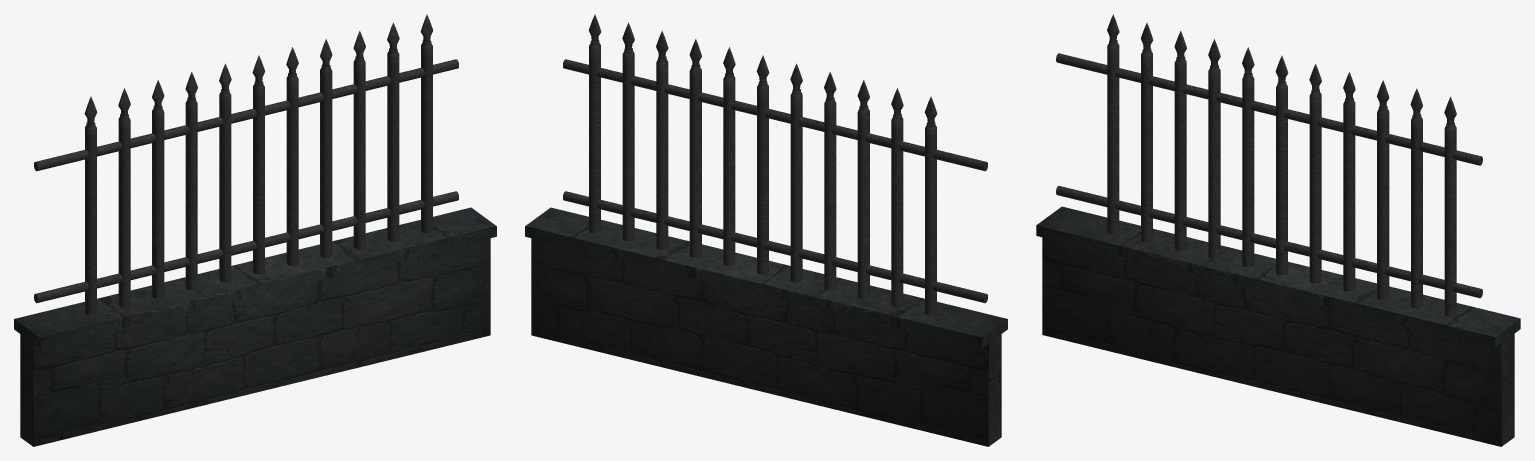
Rendered from Rejas2Escuela.fbx.
3 renders of one model, left to right at view 1: azimuth 30°, elevation 25°; view 2: azimuth 150°, elevation 25°; view 3: azimuth 330°, elevation 25°, orthographic.
Visible parts, largest first — view 1: rejas/pared1.001, rejas/pared1; view 2: rejas/pared1.001, rejas/pared1; view 3: rejas/pared1.001, rejas/pared1.
Boxes of the visible parts, <box> form: rejas/pared1.001: <box>14,207,496,446</box>; rejas/pared1: <box>34,14,458,315</box>; rejas/pared1.001: <box>525,207,1007,446</box>; rejas/pared1: <box>563,14,987,315</box>; rejas/pared1.001: <box>1036,206,1520,446</box>; rejas/pared1: <box>1056,14,1482,316</box>.
Bounding box in the file's own units: 231 × 160 × 22.45.
